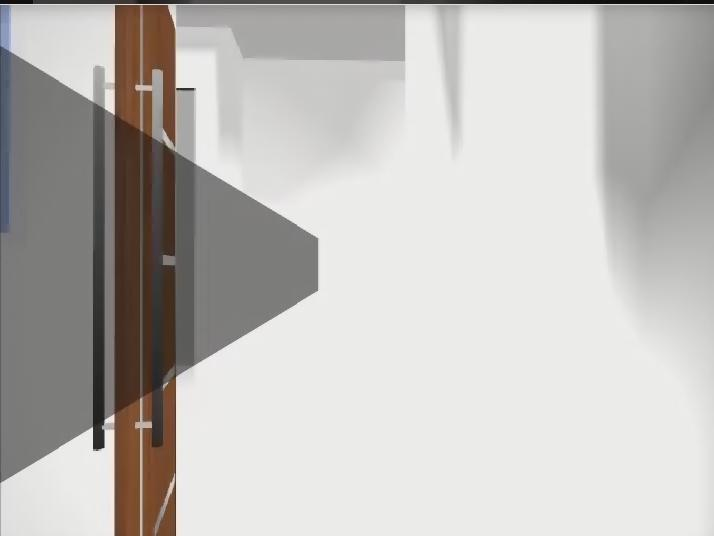door: (93, 6, 176, 536)
